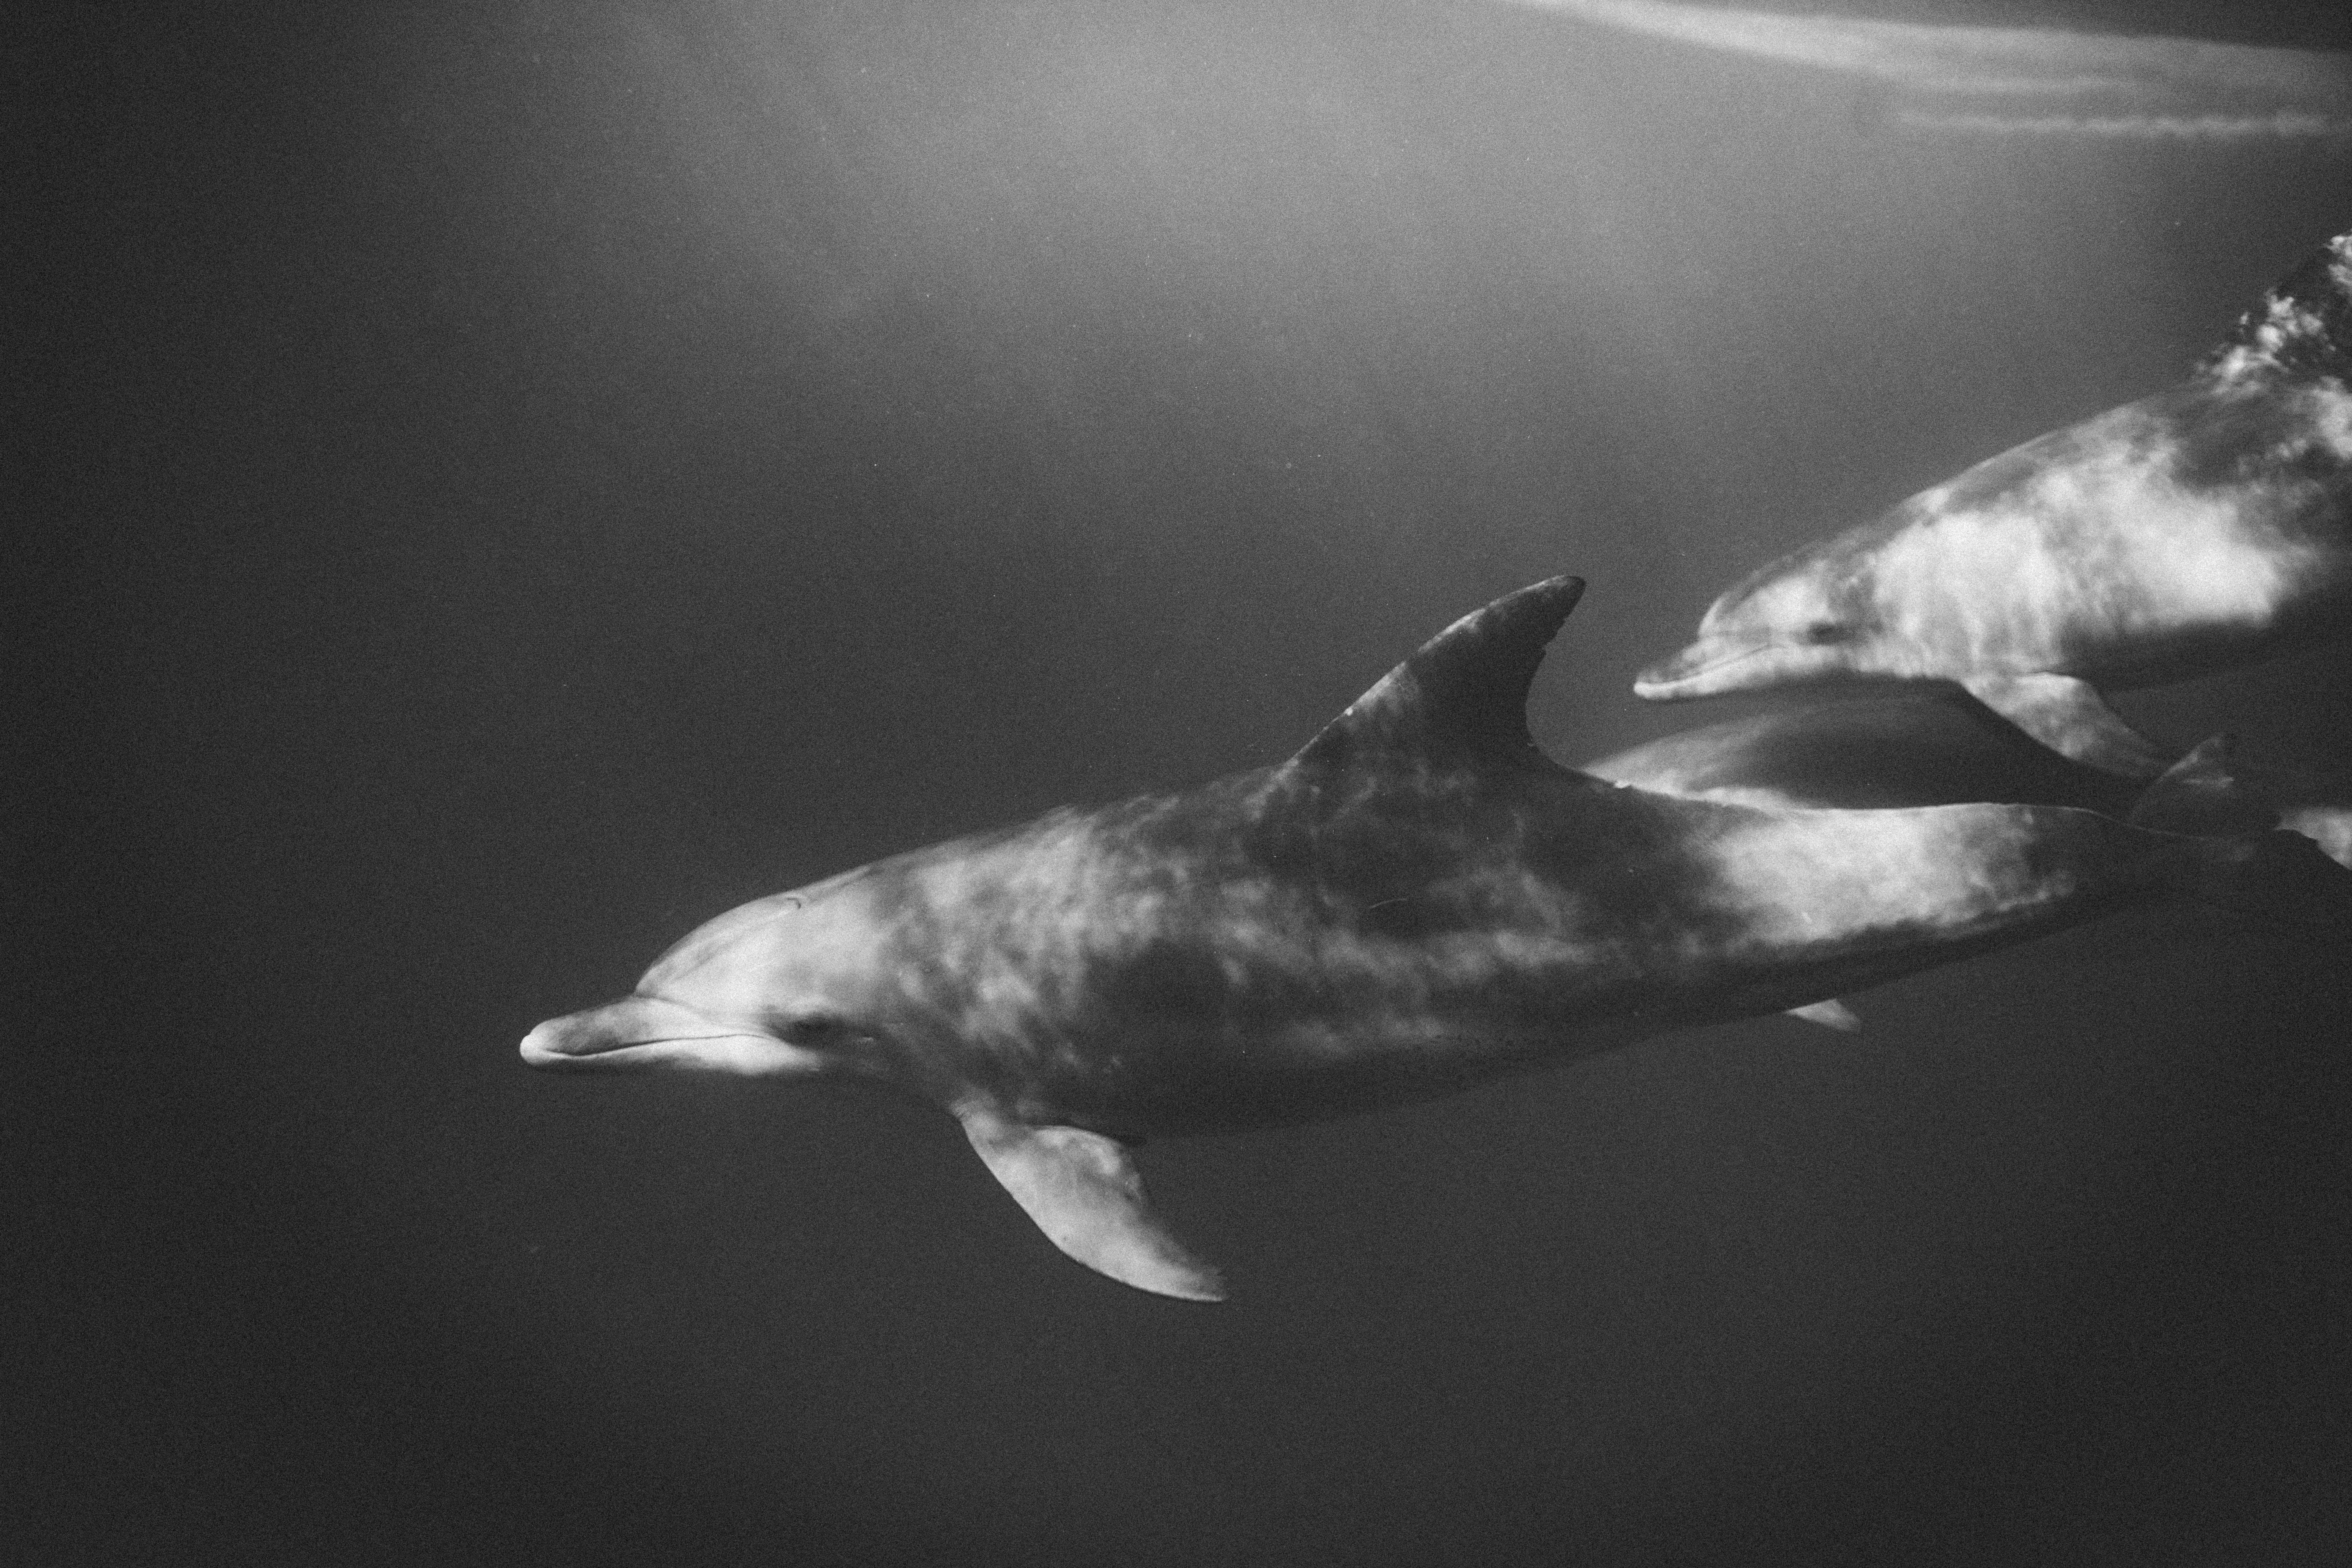dolphin: (509, 567, 2352, 1311), (1626, 217, 2352, 765), (1573, 635, 2352, 1032)
